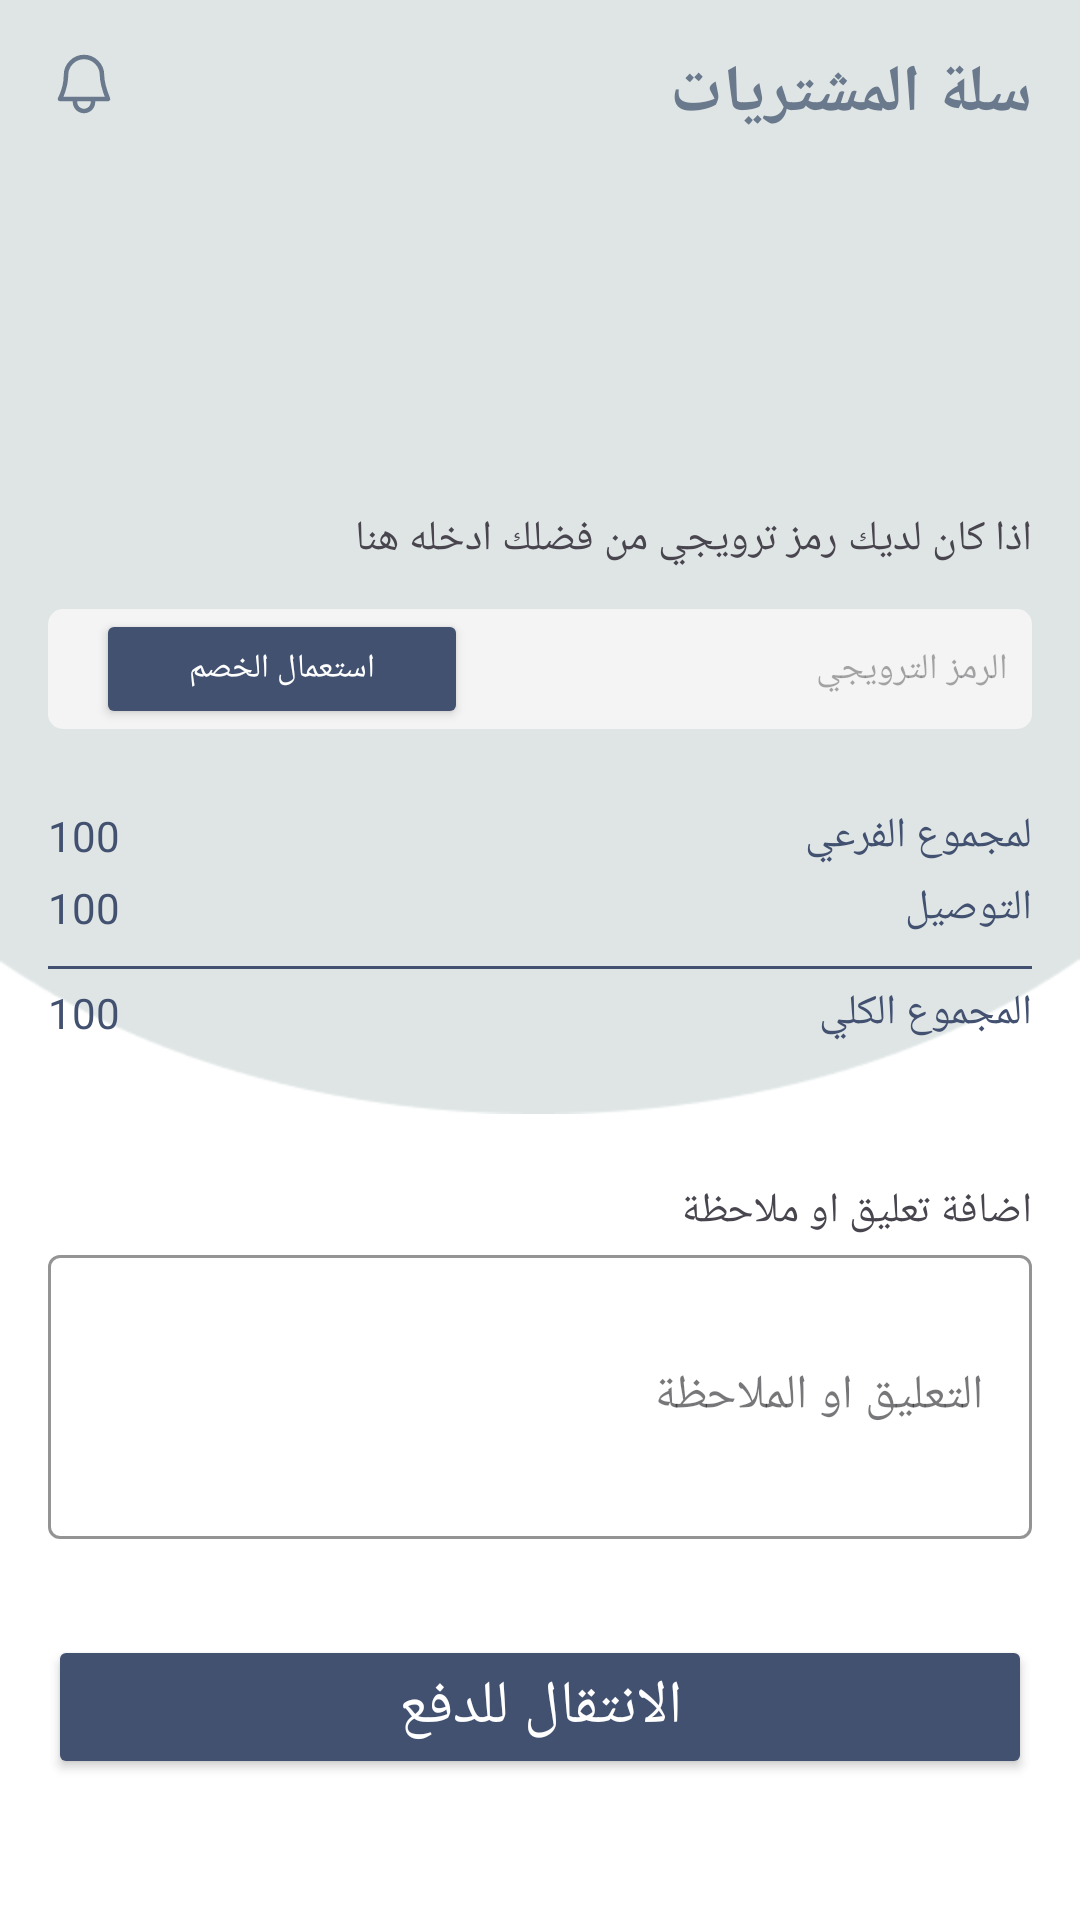

Icons on this 1080 × 1920 Android screen, each with the point to tap as (x,y):
bell: (84,84)
